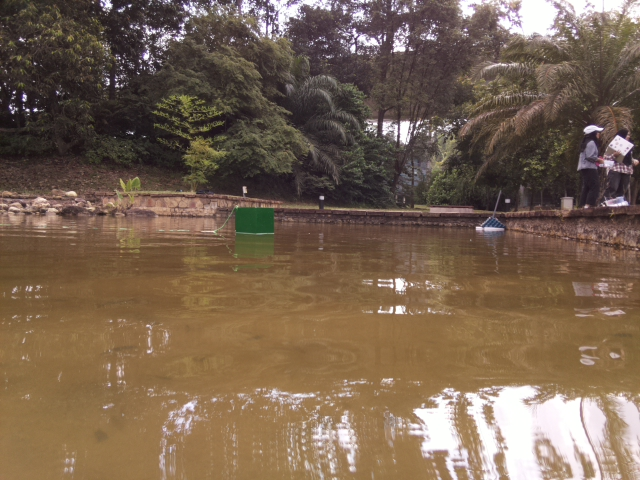obstacle: (233, 206, 276, 237)
